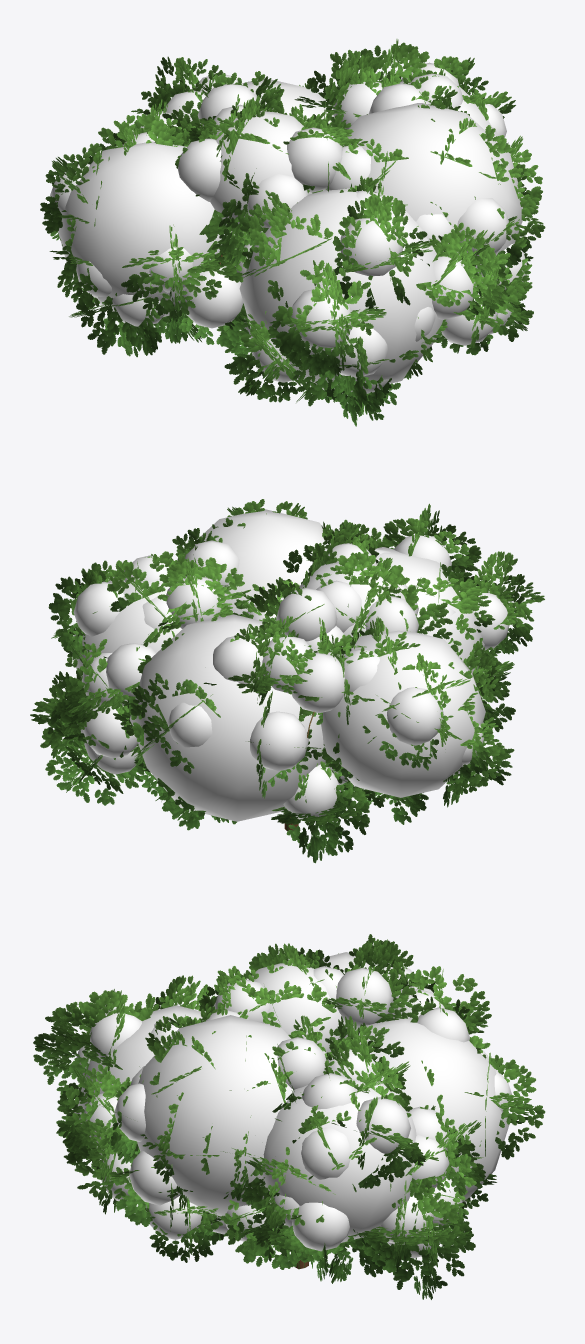
File: grown_bush2.gltf
The picture shows the model from 3 angles, top to bottom: view 1: azimuth 30°, elevation 25°; view 2: azimuth 150°, elevation 25°; view 3: azimuth 270°, elevation 25°; orthographic projection. The views are drawn at different scales.
Parts seen in each view (by area): view 1: grown_bush2_shadow_LOD0, grown_bush2_leaves_LOD0; view 2: grown_bush2_shadow_LOD0, grown_bush2_leaves_LOD0; view 3: grown_bush2_shadow_LOD0, grown_bush2_leaves_LOD0.
Part boxes in pixels (left/top/right/bottom): grown_bush2_shadow_LOD0: left=50, top=62, right=528, bottom=393; grown_bush2_leaves_LOD0: left=40, top=39, right=545, bottom=426; grown_bush2_shadow_LOD0: left=71, top=509, right=509, bottom=821; grown_bush2_leaves_LOD0: left=30, top=499, right=544, bottom=863; grown_bush2_shadow_LOD0: left=73, top=952, right=511, bottom=1258; grown_bush2_leaves_LOD0: left=33, top=934, right=545, bottom=1299.
Size of what is drawn, in the model's own units: 2.99 by 1.9 by 3.05.
3 materials, 2 textured.
